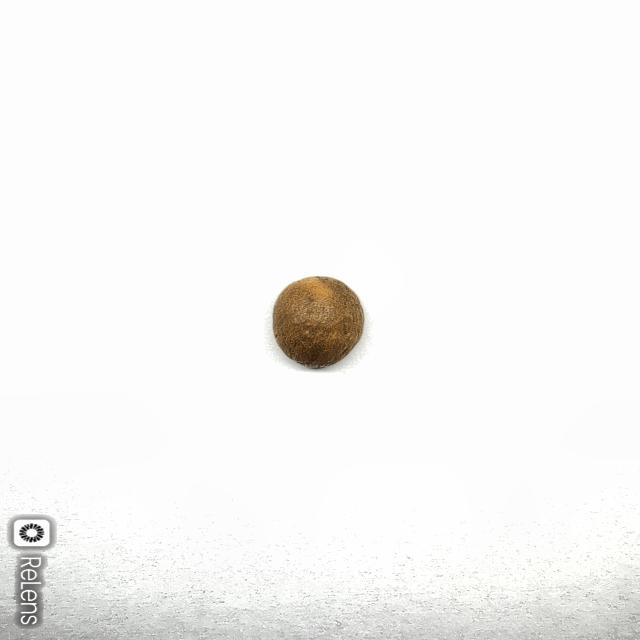Good bean: (271, 275, 365, 368)
